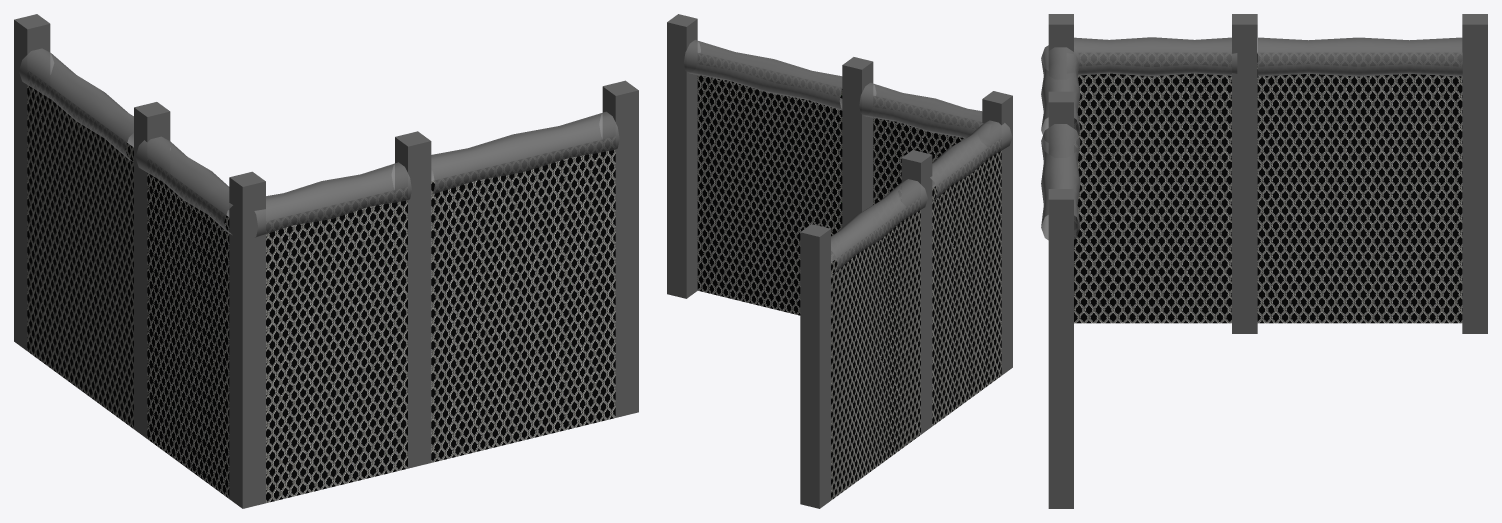
Rendered from Fence_QuarantineCorner_Mod_01.fbx.
3 renders of one model, left to right at view 1: azimuth 30°, elevation 25°; view 2: azimuth 150°, elevation 25°; view 3: azimuth 270°, elevation 25°, orthographic. The views are drawn at different scales.
Parts seen in each view (by area): view 1: Chainlink1, Supports2, BarbedWire2; view 2: Chainlink1, Supports2, BarbedWire2; view 3: Chainlink1, Supports2, BarbedWire2.
Boxes of the visible parts, x1,y1,x2,y2 form: Chainlink1: (27,85,615,503); Supports2: (14,14,638,508); BarbedWire2: (19,48,619,237); Chainlink1: (697,75,1001,500); Supports2: (667,14,1012,508); BarbedWire2: (684,40,1012,274); Chainlink1: (1074,53,1462,323); Supports2: (1048,14,1487,508); BarbedWire2: (1041,37,1462,240).
Bounding box in the file's own units: 5.27 × 4 × 5.24.
